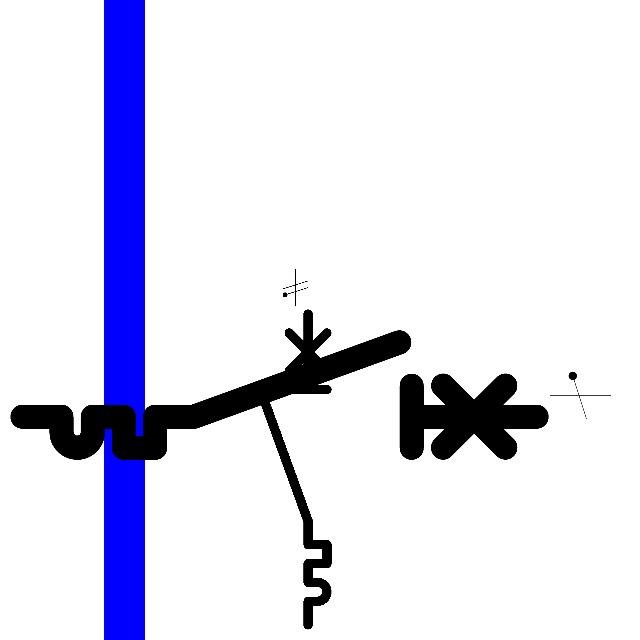interruptor_termomagnetico: (9, 329, 549, 461), (255, 306, 335, 633)
